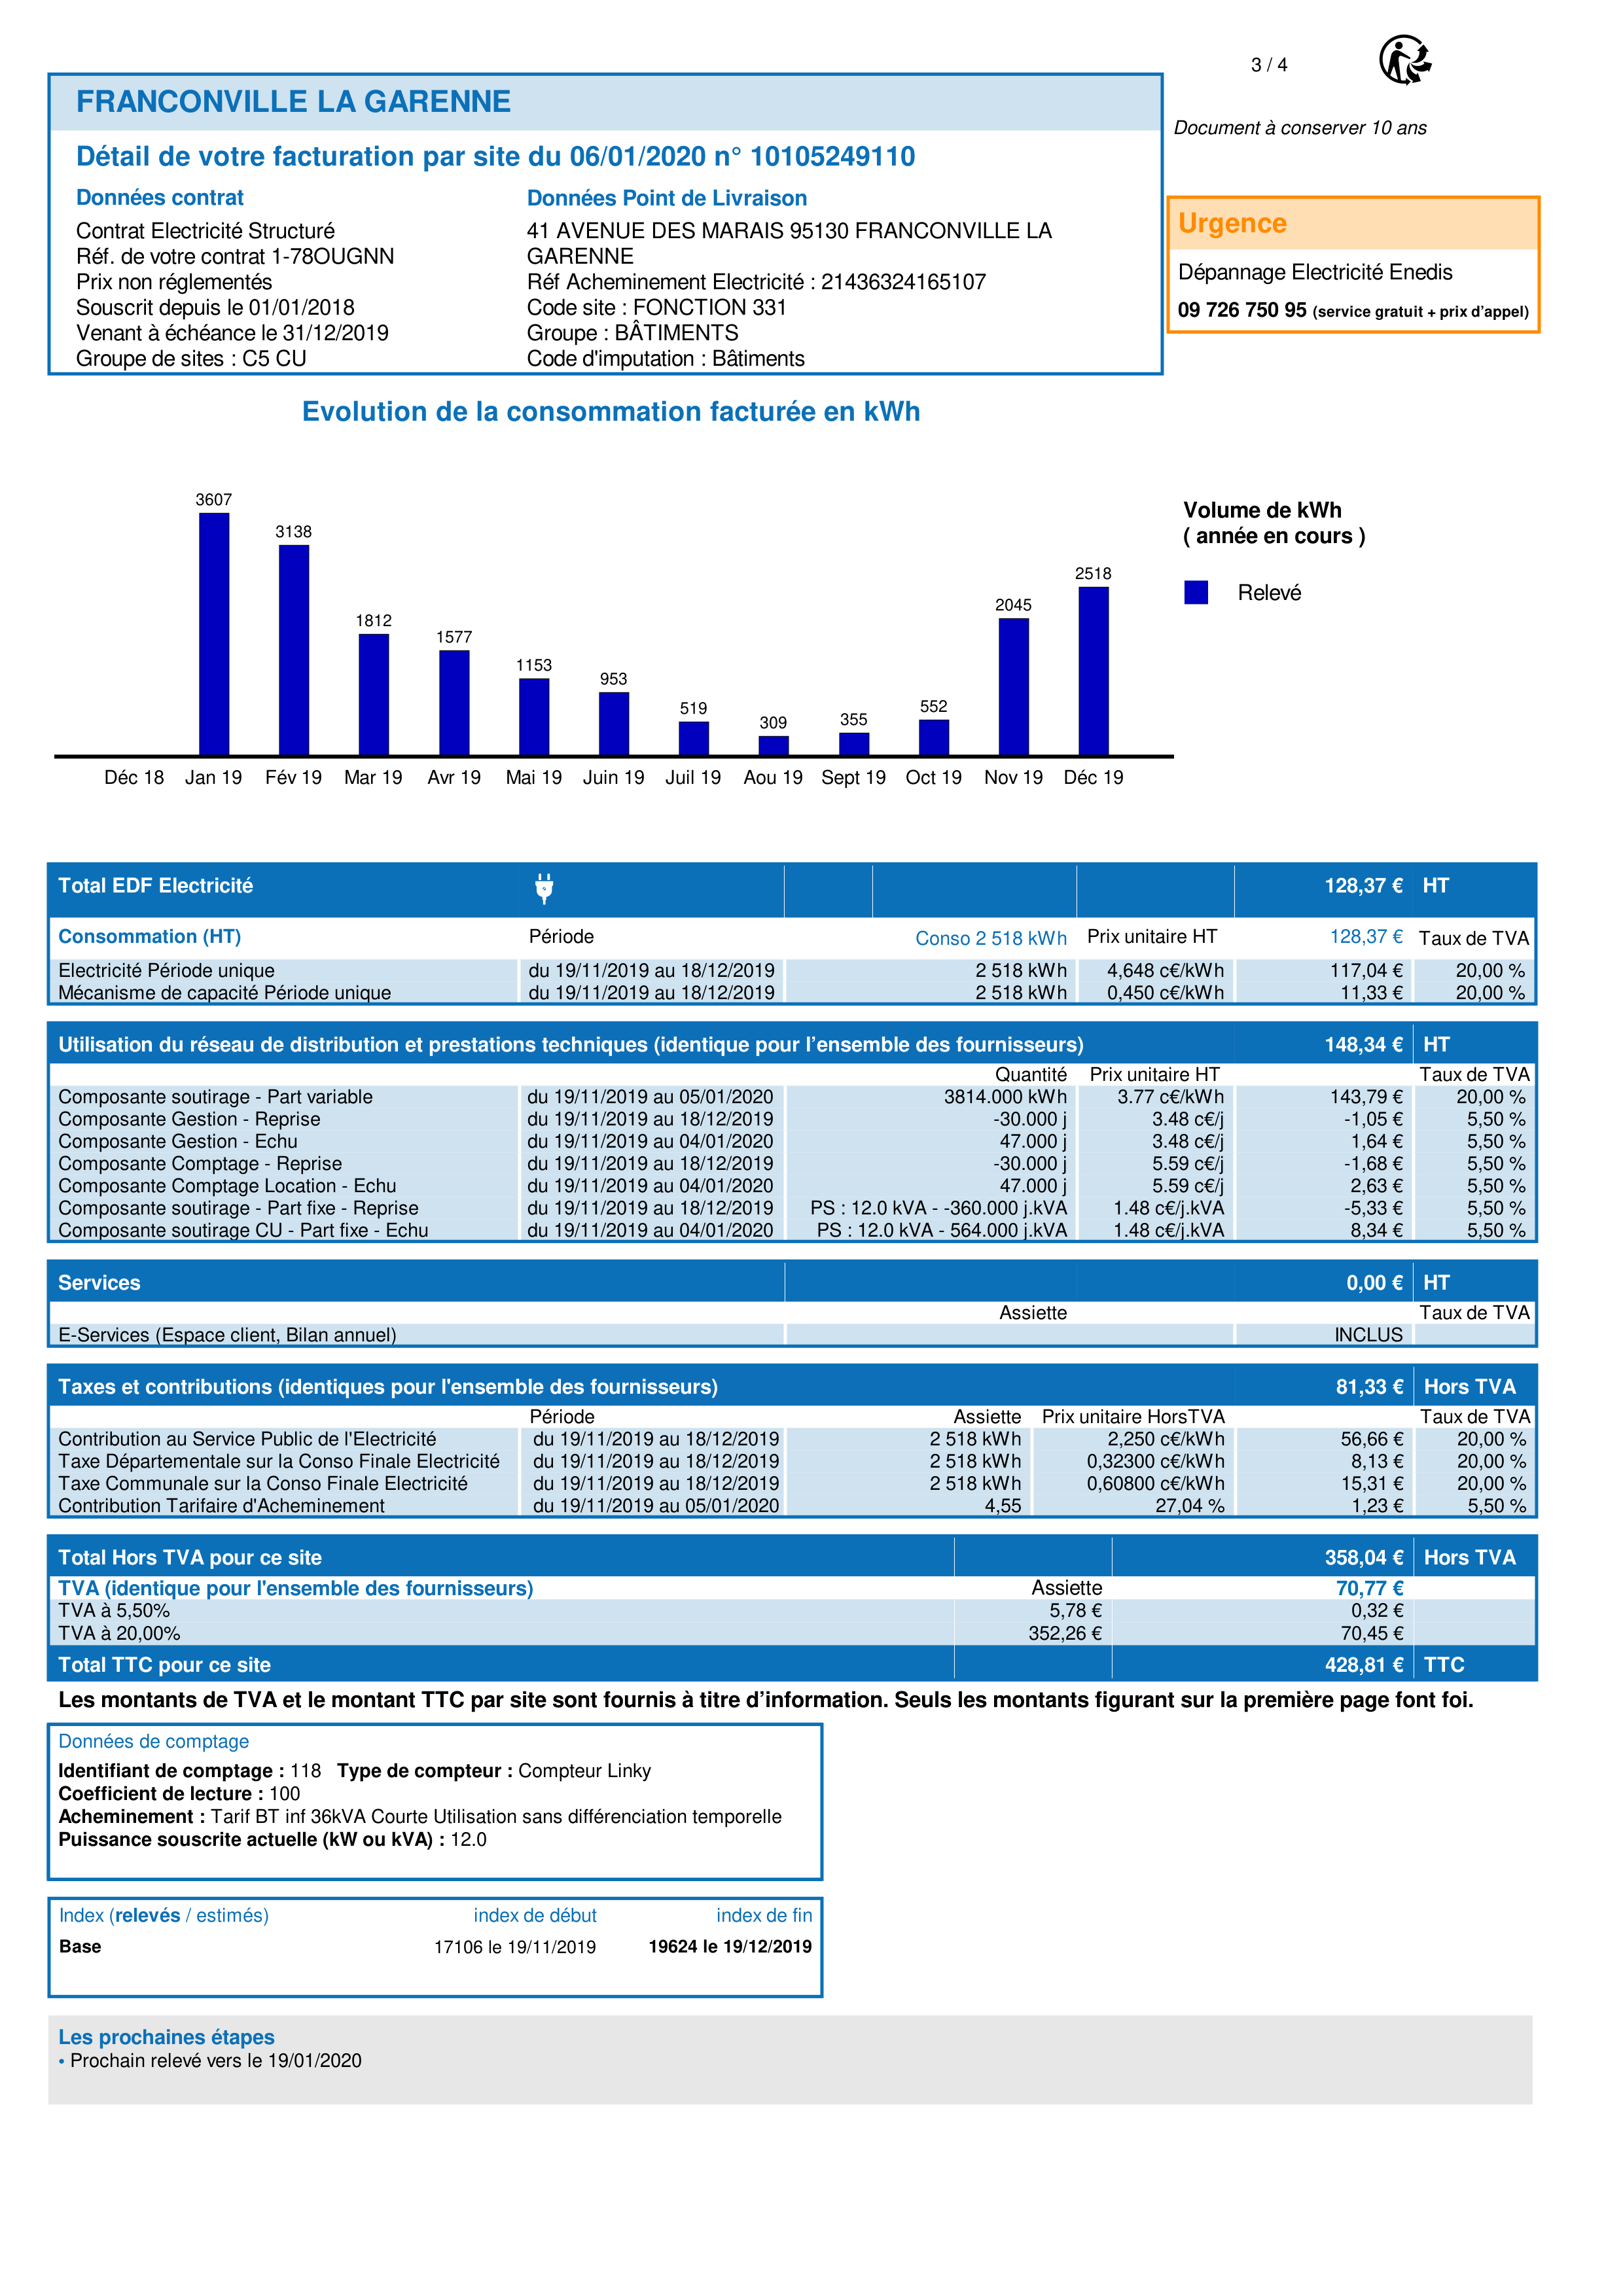area: (47, 1898, 819, 1998)
type_indicator: (46, 1899, 281, 1936)
